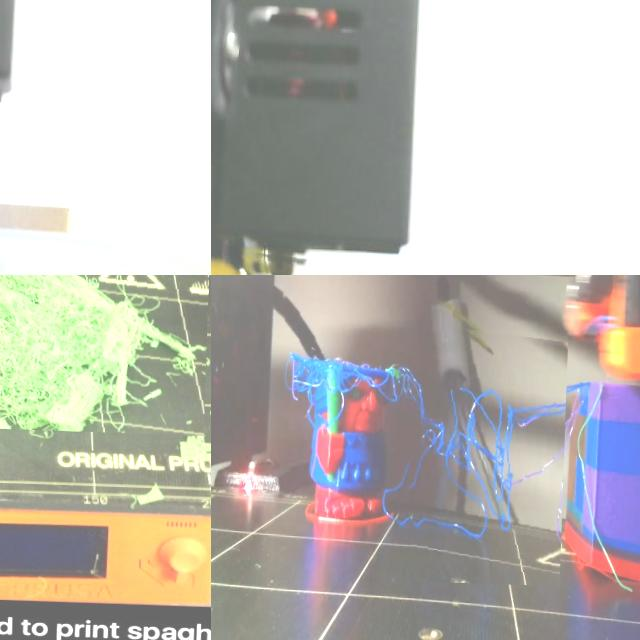spaghetti: (393, 320, 568, 586), (0, 275, 211, 435), (276, 328, 394, 428)
